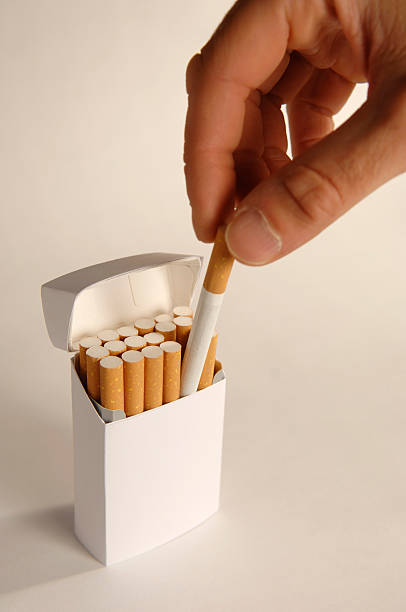cigarette: (43, 251, 239, 571), (177, 222, 236, 398), (122, 349, 145, 418), (159, 339, 183, 404), (84, 344, 110, 400), (142, 345, 164, 410), (99, 354, 124, 410), (198, 329, 220, 392), (77, 336, 103, 376), (176, 315, 193, 349), (98, 326, 120, 347), (155, 321, 177, 341), (134, 317, 157, 335), (103, 339, 127, 356), (124, 334, 148, 350), (117, 325, 139, 340), (144, 331, 166, 344), (172, 305, 193, 316), (155, 311, 173, 323)
